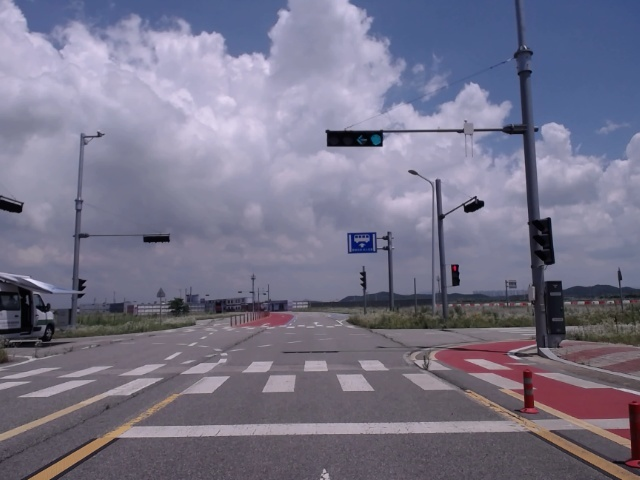all_green_4: (330, 130, 388, 147)
